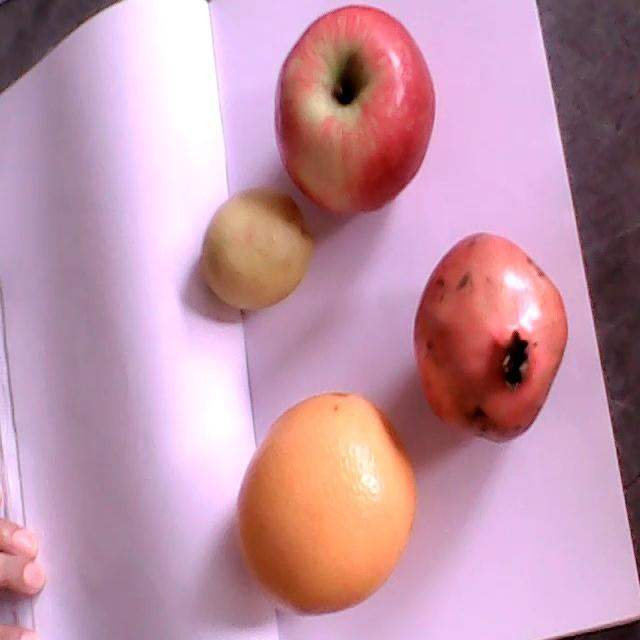apple: (273, 4, 438, 214)
lemon: (198, 185, 314, 312)
orange: (233, 387, 421, 617)
pomegranate: (414, 234, 567, 442)
